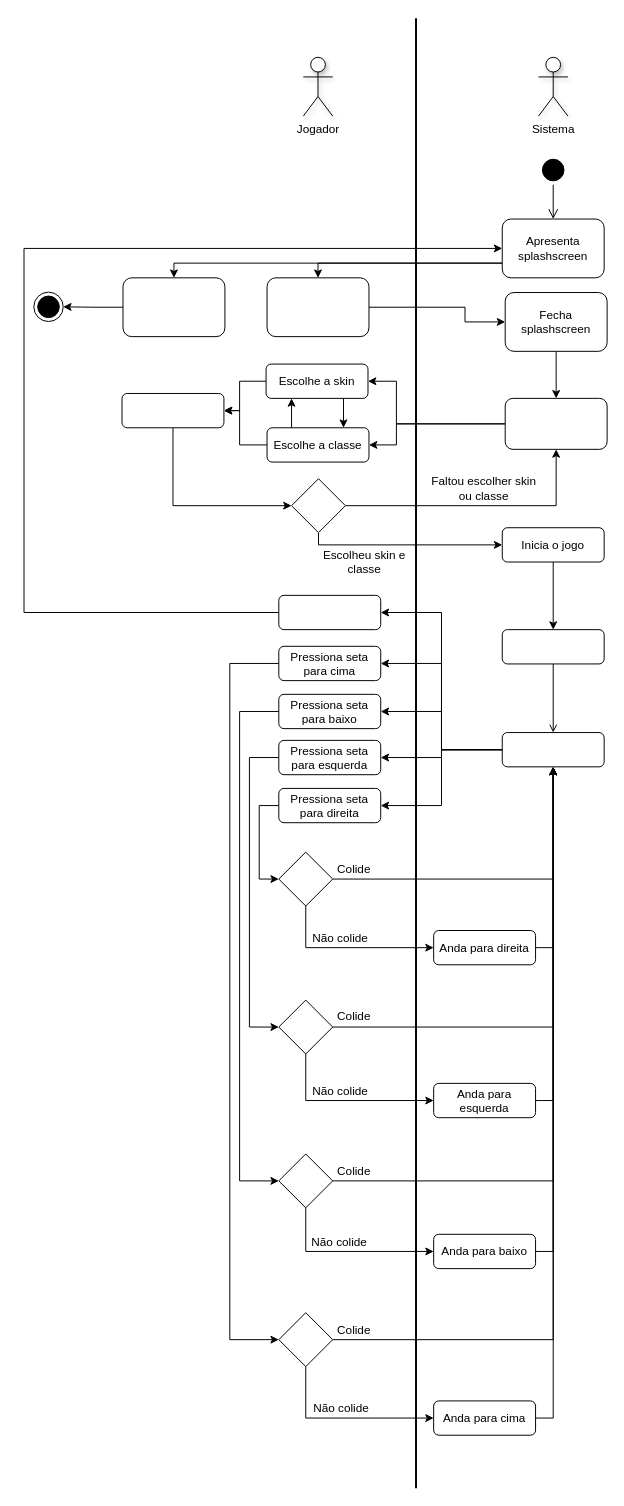
The diagram is 624 pixels wide and 1506 high, and some of its shapes have lost their labels. Here are the shapes that lost their labels. From the top down, the centre of each, then its label:
point 173,307: Pressiona "Exit"
point 317,307: Pressiona "Play"
point 172,410: Pressiona "Start"
point 555,423: Tela de escolha de classe e skin
point 329,612: Pressiona "Title Screen"
point 552,646: Gera o mapa
point 552,749: Espera ação do jogador
